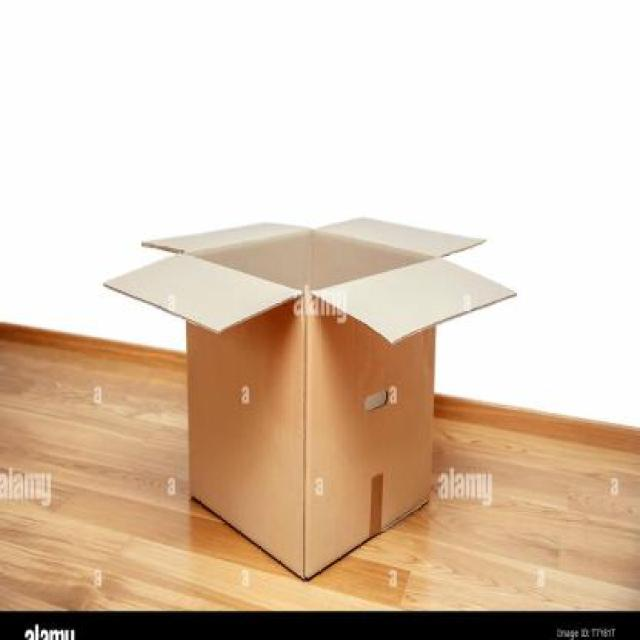box: (98, 200, 525, 583)
